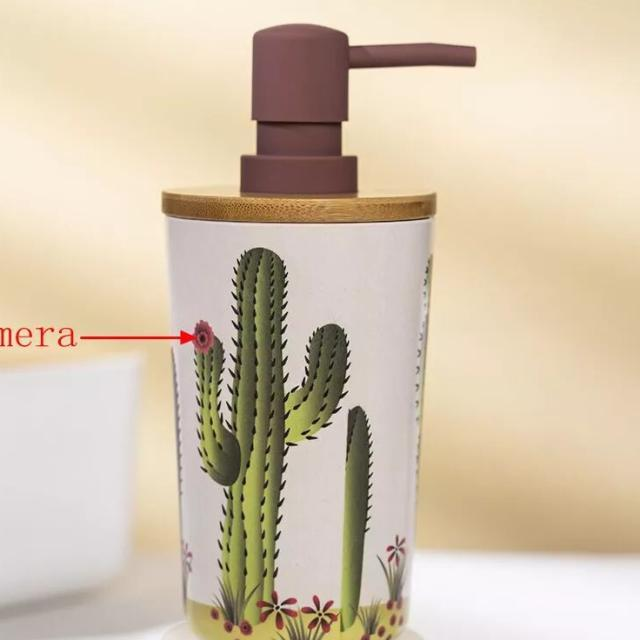hidden camera: (196, 332, 209, 347)
